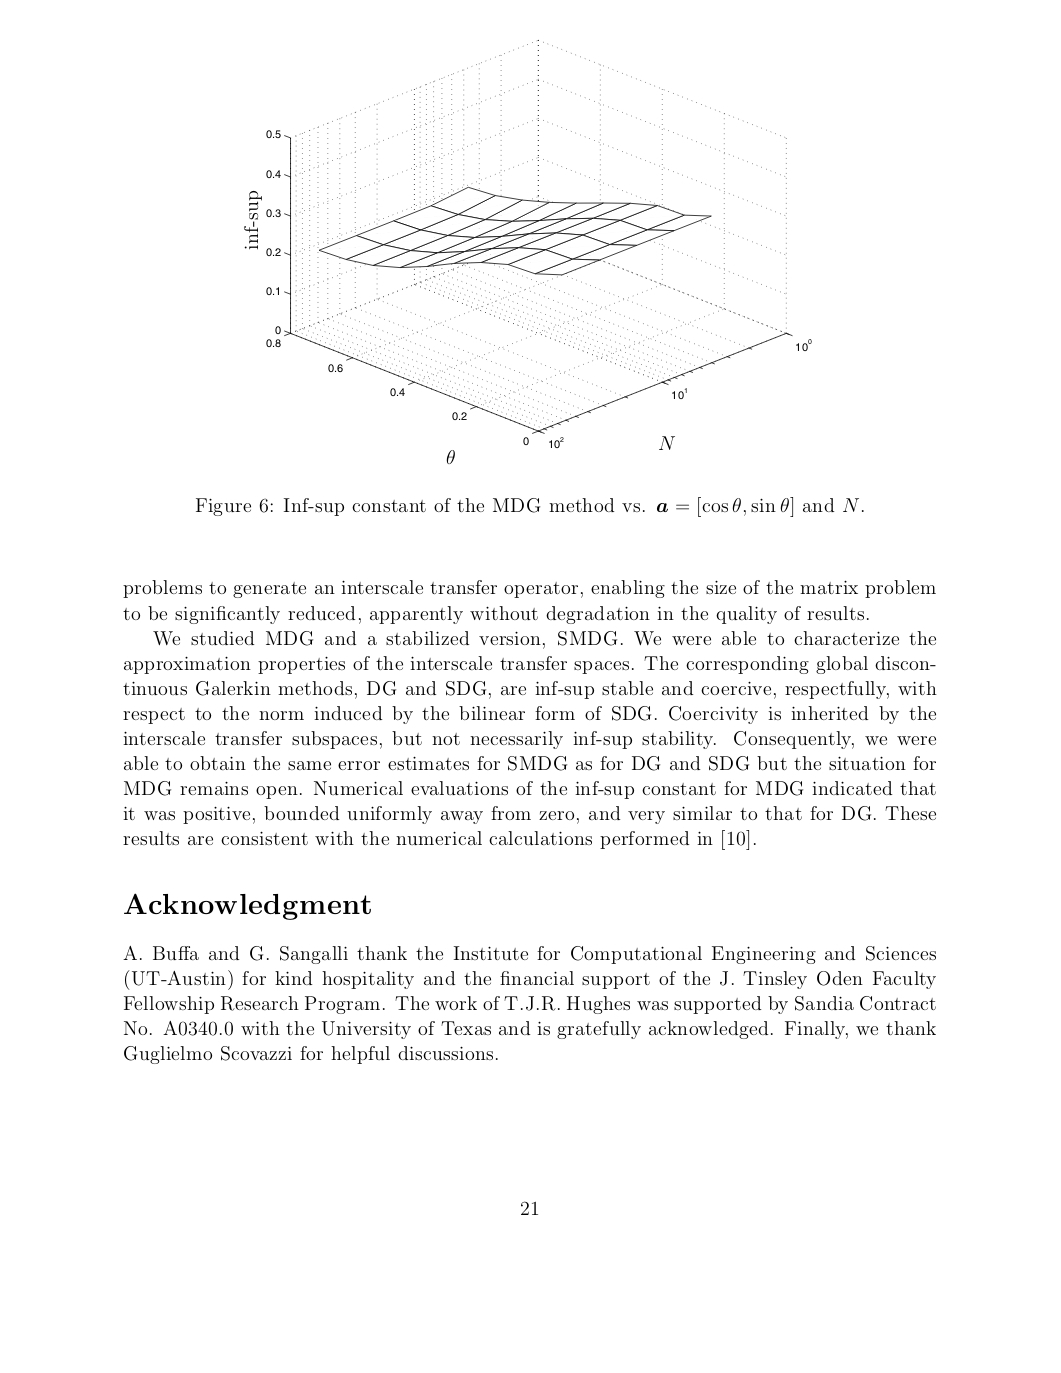figure: (244, 38, 811, 465)
